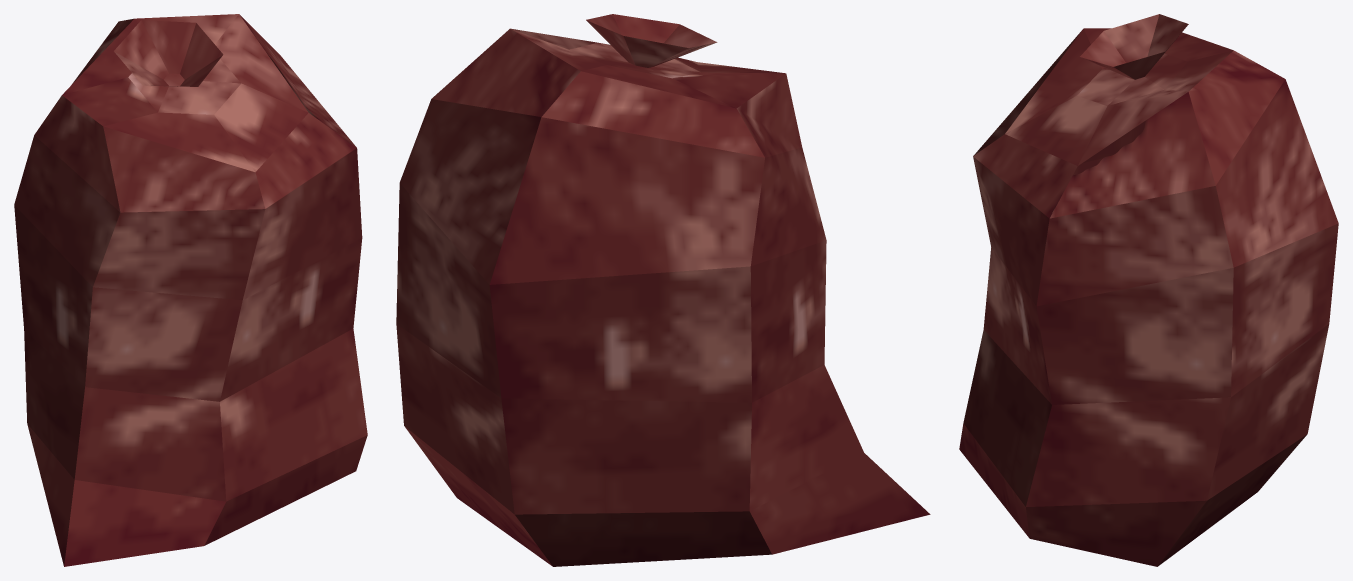
File: Urban_Trashbag2Red_Model.fbx
3 views of the same model, side by side, from view 1: azimuth 30°, elevation 25°; view 2: azimuth 150°, elevation 25°; view 3: azimuth 270°, elevation 25° (orthographic). The views are drawn at different scales.
Parts seen in each view (by area): view 1: Urban_Trashbag2Red_Mesh; view 2: Urban_Trashbag2Red_Mesh; view 3: Urban_Trashbag2Red_Mesh.
Boxes of the visible parts, <box> form: Urban_Trashbag2Red_Mesh: <box>14,14,367,566</box>; Urban_Trashbag2Red_Mesh: <box>396,14,930,566</box>; Urban_Trashbag2Red_Mesh: <box>959,14,1338,566</box>.
Size of the model in its own units: 0.8555 by 1.04 by 0.7744.
